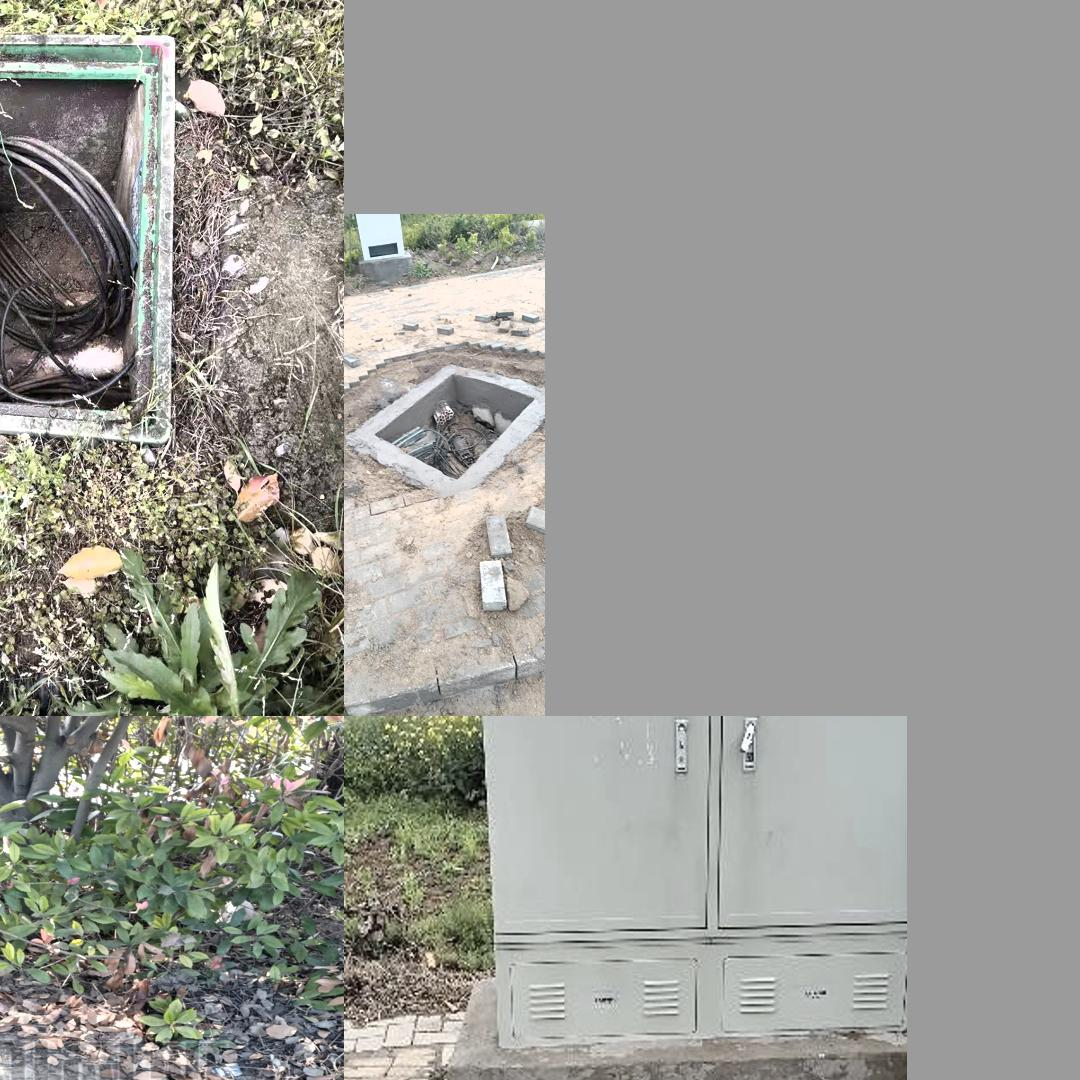lose: (0, 31, 178, 448), (0, 1006, 338, 1080), (352, 355, 538, 480)
